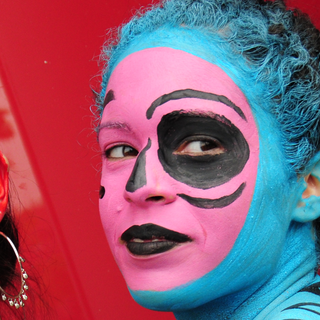eye: (172, 131, 227, 160), (103, 139, 141, 163)
